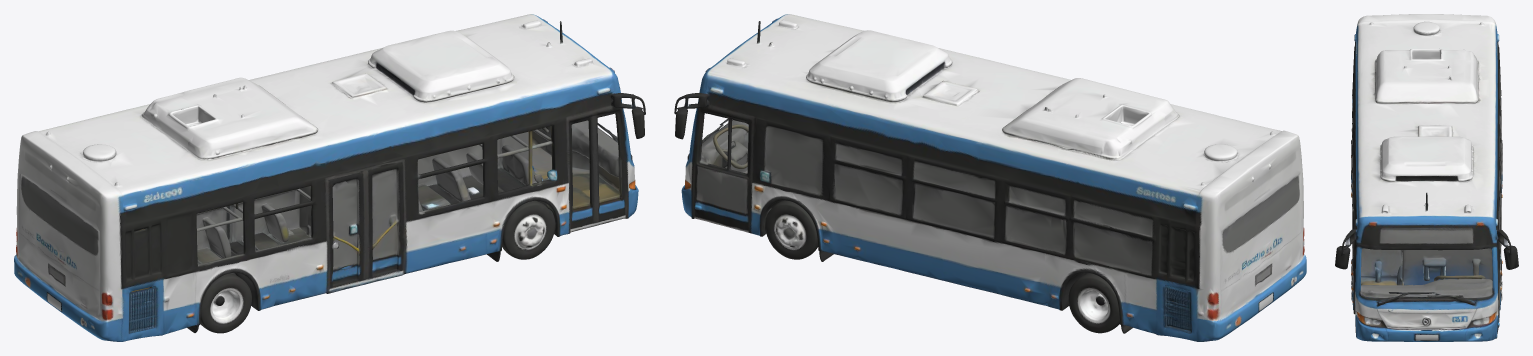
File: 054_city_transit_bus.glb
The picture shows the model from 3 angles, left to right: view 1: azimuth 30°, elevation 25°; view 2: azimuth 150°, elevation 25°; view 3: azimuth 270°, elevation 25°; orthographic projection. The views are drawn at different scales.
Parts seen in each view (by area): view 1: geometry_0; view 2: geometry_0; view 3: geometry_0.
Boxes of the visible parts, left/top/right/bottom form: geometry_0: left=14, top=14, right=645, bottom=341; geometry_0: left=674, top=14, right=1306, bottom=341; geometry_0: left=1335, top=14, right=1518, bottom=341.
Size of the model in its own units: 12 by 3.89 by 4.33.
1 material, 1 textured.
